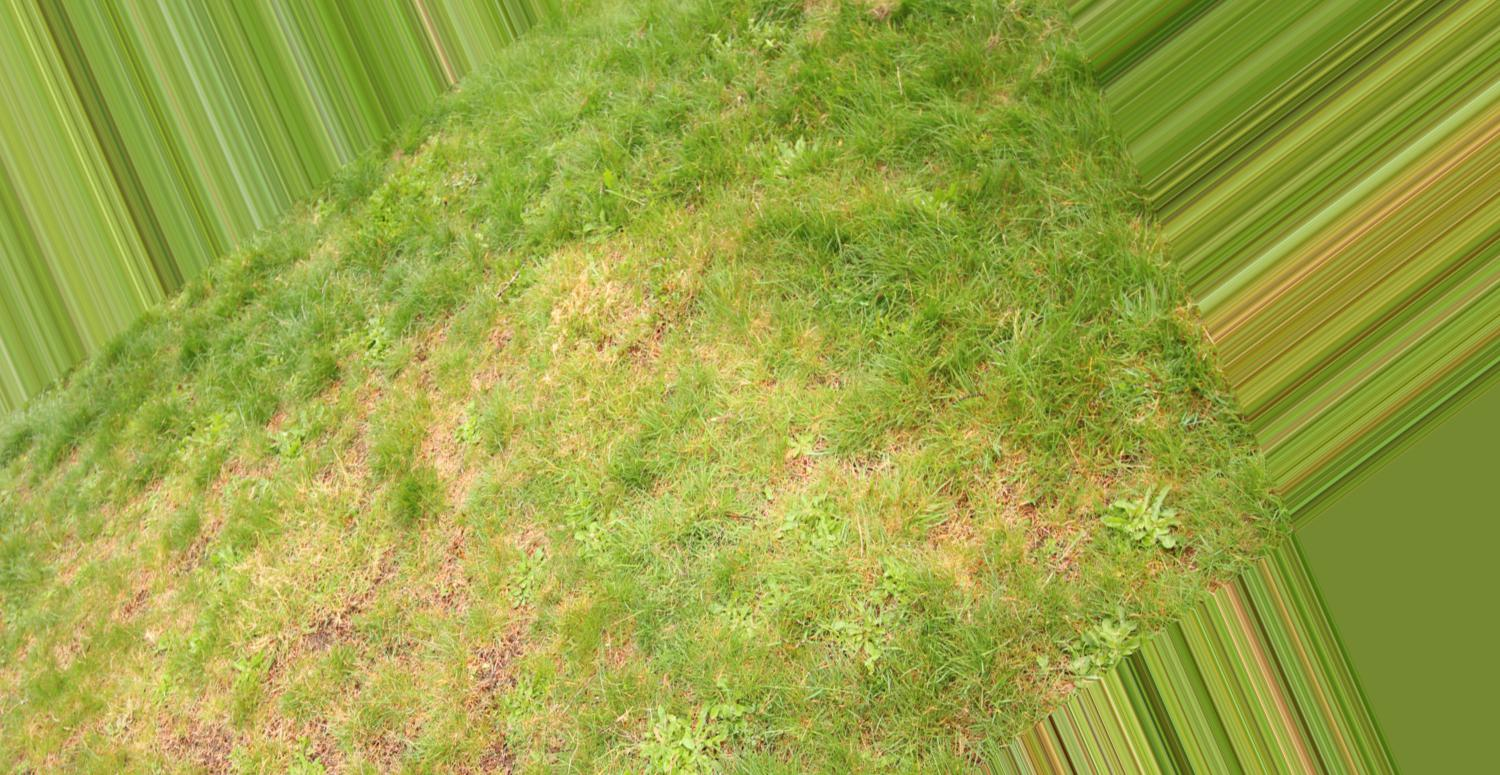patch: (165, 450, 532, 715), (770, 431, 1047, 593), (525, 271, 678, 405)
